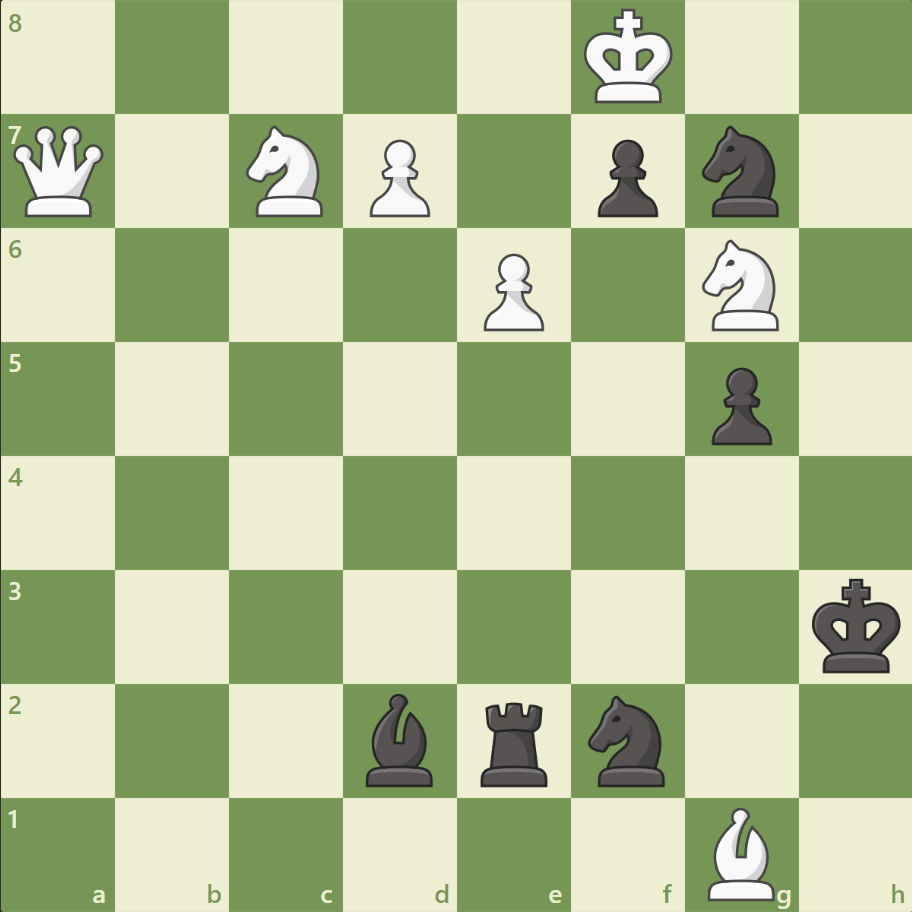B: (698, 801, 782, 904)
K: (579, 4, 679, 112)
N: (692, 234, 789, 337), (238, 121, 335, 223)
P: (474, 246, 549, 337), (361, 132, 435, 223)
Q: (10, 122, 109, 222)
b: (358, 687, 442, 790)
k: (806, 571, 906, 679)
n: (579, 688, 676, 791), (692, 121, 789, 223)
p: (701, 359, 776, 450), (588, 132, 662, 223)
r: (473, 693, 556, 790)
